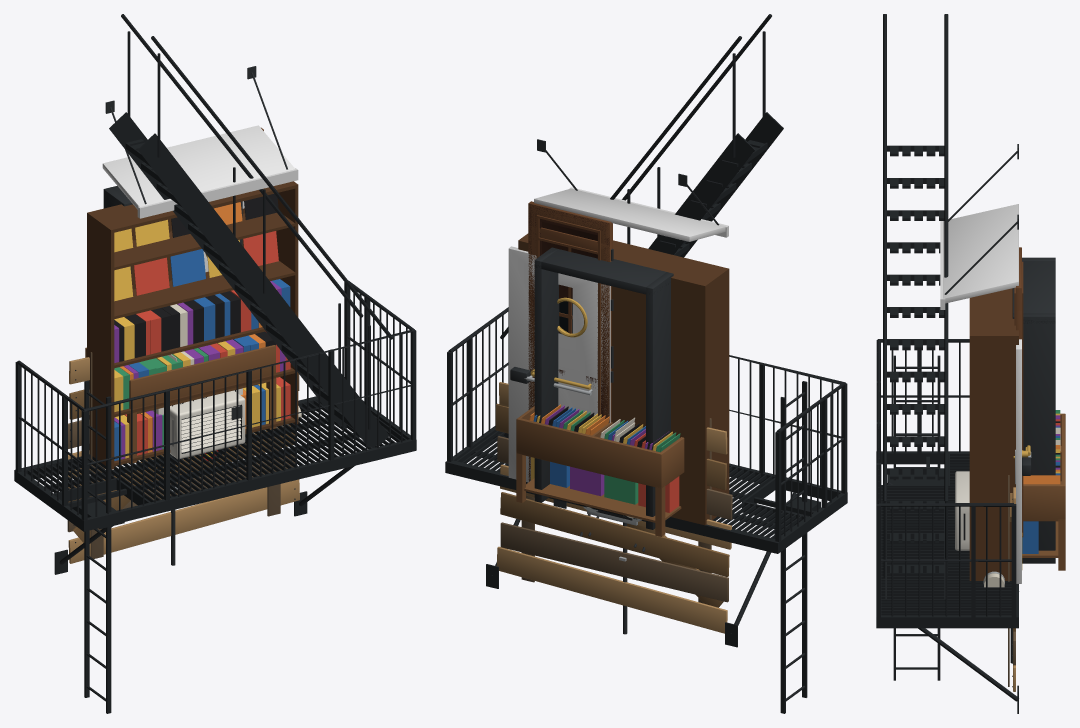
Rendered from market-kit.glb.
3 renders of one model, left to right at view 1: azimuth 30°, elevation 25°; view 2: azimuth 150°, elevation 25°; view 3: azimuth 270°, elevation 25°, orthographic. The views are drawn at different scales.
Visible parts, largest first — view 1: record_shelf, escape_platform, escape_stair, frame_steel, boards, record_bin, escape_ladder, ac_window; view 2: boards, escape_platform, record_shelf, frame_steel, record_bin, door_steel, escape_stair, door_french, escape_ladder, door_glass, door_panel; view 3: escape_platform, frame_steel, escape_stair, record_shelf, record_bin, escape_ladder, door_steel, ac_window, door_glass, boards, door_french.
Boxes of the visible parts, x1,y1,x2,y2 form: record_shelf: [87, 181, 298, 469]; escape_platform: [14, 280, 416, 574]; escape_stair: [109, 14, 393, 448]; frame_steel: [102, 66, 298, 273]; boards: [67, 352, 299, 563]; record_bin: [85, 345, 276, 463]; escape_ladder: [72, 380, 124, 713]; ac_window: [160, 390, 245, 472]; boards: [495, 382, 732, 633]; escape_platform: [445, 307, 847, 647]; record_shelf: [518, 233, 729, 525]; frame_steel: [534, 139, 728, 529]; record_bin: [516, 404, 684, 536]; door_steel: [508, 246, 613, 482]; escape_stair: [500, 14, 783, 438]; door_french: [528, 226, 613, 481]; escape_ladder: [768, 381, 820, 713]; door_glass: [528, 201, 613, 481]; door_panel: [528, 204, 609, 478]; escape_platform: [876, 339, 1018, 713]; frame_steel: [940, 144, 1055, 563]; escape_stair: [883, 14, 948, 601]; record_shelf: [969, 288, 1018, 580]; record_bin: [1022, 410, 1065, 570]; escape_ladder: [887, 355, 944, 680]; door_steel: [1013, 339, 1031, 583]; ac_window: [954, 471, 969, 550]; door_glass: [1014, 247, 1030, 562]; boards: [1008, 475, 1015, 691]; door_french: [1014, 311, 1027, 569].
Bounding box in the file's own units: 3.2 × 6.16 × 1.54.
